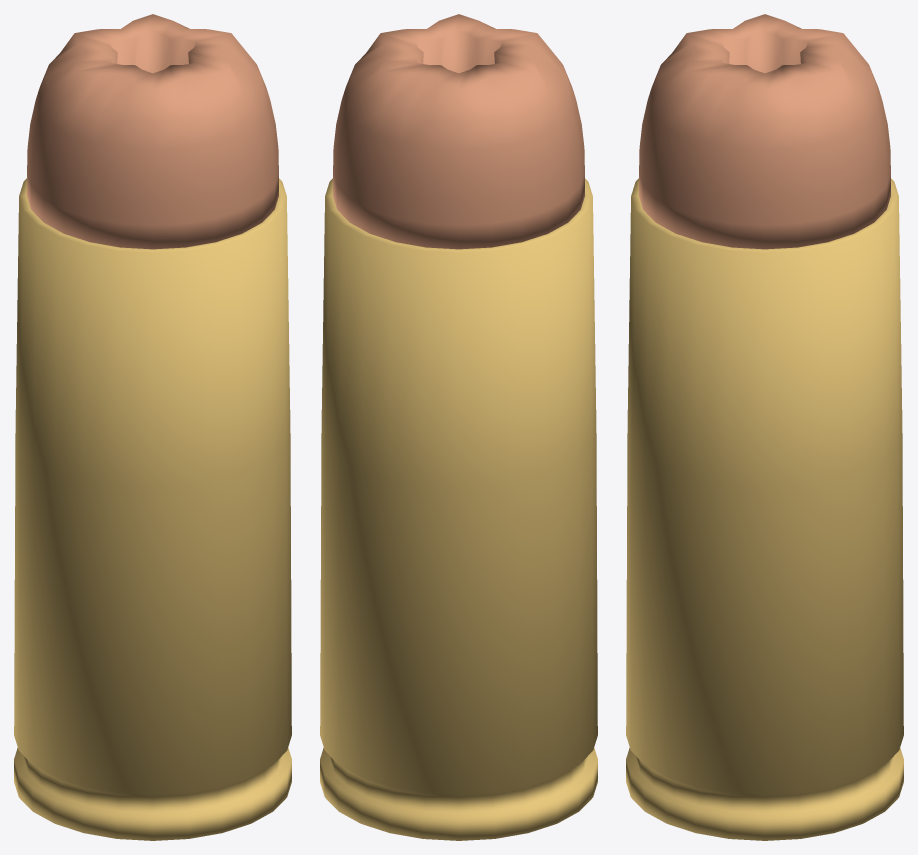
3 renders of one model, left to right at view 1: azimuth 30°, elevation 25°; view 2: azimuth 150°, elevation 25°; view 3: azimuth 270°, elevation 25°, orthographic.
Parts seen in each view (by area): view 1: vaina, bala_hueca; view 2: vaina, bala_hueca; view 3: vaina, bala_hueca.
Boxes of the visible parts, <box> form: vaina: <box>14,178,291,840</box>; bala_hueca: <box>27,14,278,249</box>; vaina: <box>320,178,597,840</box>; bala_hueca: <box>333,14,584,249</box>; vaina: <box>626,178,903,840</box>; bala_hueca: <box>639,14,890,249</box>.
Size of the model in its own units: 0.014 by 0.0406 by 0.014.
